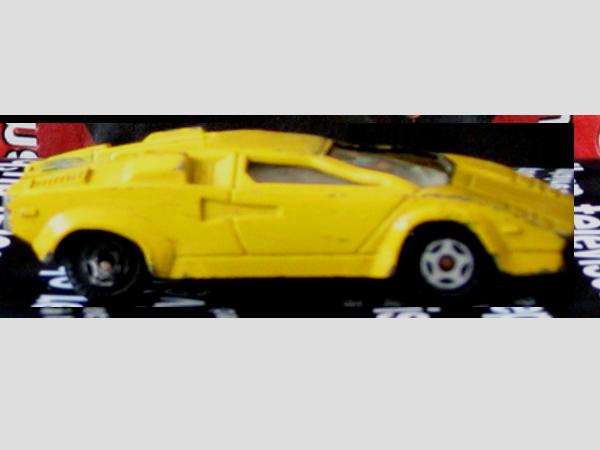toy-car: (0, 123, 574, 307)
